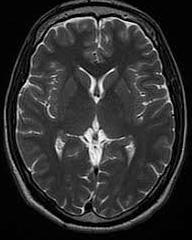Normal_Brain: (1, 1, 192, 240)
